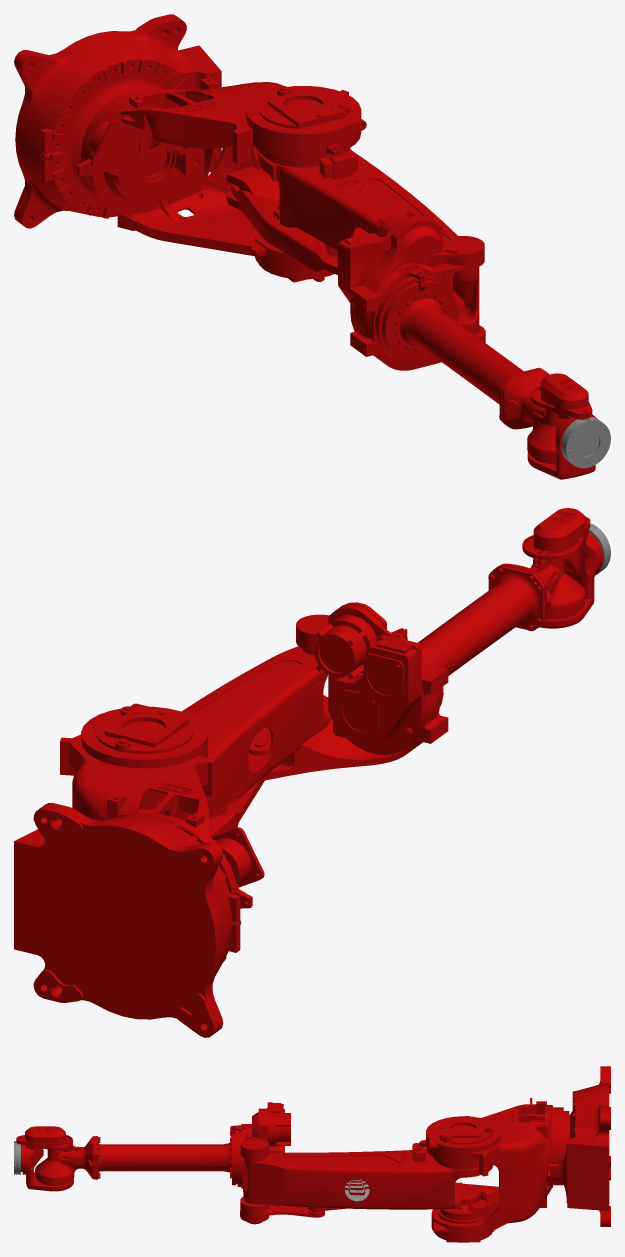
File: comau_01_z.glb
The picture shows the model from 3 angles, top to bottom: view 1: azimuth 30°, elevation 25°; view 2: azimuth 150°, elevation 25°; view 3: azimuth 270°, elevation 25°; orthographic projection. The views are drawn at different scales.
Parts seen in each view (by area): view 1: link_1_body, base_link_body, link_3_body, link_4_body, link_2_body, link_5_body, link_6_body; view 2: base_link_body, link_3_body, link_1_body, link_2_body, link_4_body, link_5_body; view 3: link_2_body, link_1_body, base_link_body, link_4_body, link_3_body, link_5_body.
Part boxes in pixels (box(x1,y1,x2,y2)): link_1_body: box(75, 77, 366, 282); base_link_body: box(14, 14, 221, 228); link_3_body: box(226, 166, 485, 370); link_4_body: box(382, 279, 558, 464); link_2_body: box(258, 149, 479, 334); link_5_body: box(527, 373, 597, 479); link_6_body: box(561, 416, 610, 468); base_link_body: box(14, 803, 240, 1037); link_3_body: box(209, 602, 448, 836); link_1_body: box(60, 703, 264, 908); link_2_body: box(138, 646, 331, 820); link_4_body: box(404, 559, 585, 706); link_5_body: box(522, 508, 603, 628); link_2_body: box(244, 1143, 493, 1209); link_1_body: box(419, 1098, 552, 1242); base_link_body: box(548, 1066, 610, 1226); link_4_body: box(35, 1130, 235, 1185); link_3_body: box(230, 1102, 498, 1224); link_5_body: box(16, 1126, 73, 1191).
Bounding box in the file's own units: 1.01 × 0.7215 × 3.36.
